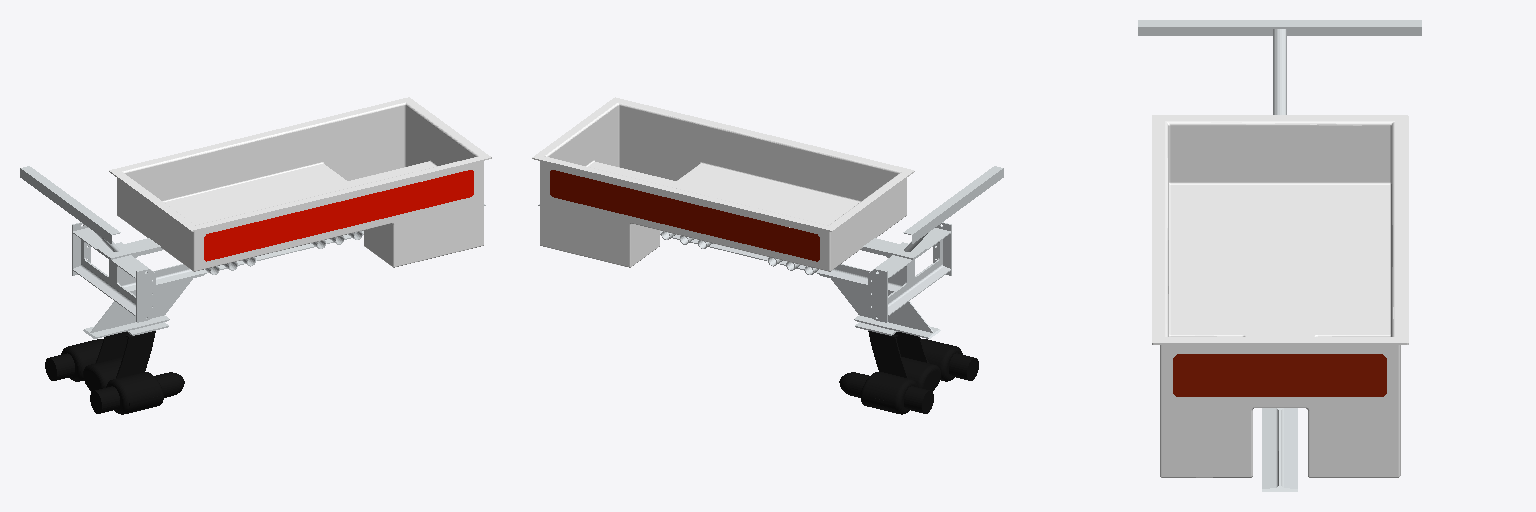
robot.urdf — trevor:
<?xml version="1.0"?>
<robot name="trevor">

  <link name="base_link">
    <visual>
      <geometry>
        <mesh filename="package://urdf_tutorial/meshes/usv_box.dae"/>
      </geometry>
      <origin rpy="0 0 3.14159" xyz="0 0 0"/>
    </visual>
  </link>

  <link name="frame">
      <visual>
          <geometry>
            <mesh filename="package://urdf_tutorial/meshes/frame.dae"/>
          </geometry>
          <origin rpy="0 0 1.57075" xyz="0.578 -0.02 -0.01"/>
      </visual>
  </link>

  <joint name="box_to_frame" type="fixed">
    <parent link="base_link"/>
    <child link="frame"/>
    <origin xyz="0 0 0"/>
  </joint>

  <link name="thrusters">
      <visual>
          <geometry>
            <mesh filename="package://urdf_tutorial/meshes/thruster.dae"/>
          </geometry>
          <origin rpy="0 0 1.57075" xyz="0.02 0.063 -0.586"/>
      </visual>
  </link>

  <joint name="frame_to_thrusters" type="fixed">
    <parent link="frame"/>
    <child link="thrusters"/>
    <origin xyz="0 0 0"/>
  </joint>
</robot>

--- Facts derived from the render (not from the file) ---
3 views of the same robot in one strip: view 1: azimuth 30°, elevation 25°; view 2: azimuth 150°, elevation 25°; view 3: azimuth 270°, elevation 25° (orthographic).
Model trevor with 3 links and 2 joints (2 fixed), rooted at base_link, posed all joints at 0.
Visible links, largest first — view 1: base_link, frame, thrusters; view 2: base_link, frame, thrusters; view 3: base_link, frame.
Boxes of the visible links, x1,y1,x2,y2 form: base_link: (109, 97, 491, 271); frame: (20, 166, 485, 338); thrusters: (45, 331, 184, 414); base_link: (532, 97, 914, 271); frame: (538, 166, 1003, 338); thrusters: (839, 331, 978, 414); base_link: (1152, 115, 1408, 477); frame: (1138, 20, 1421, 491).
Size in the robot's own frame: 1.73 by 0.6572 by 0.8056 metres.
3 mesh visuals loaded from 3 distinct referenced files (3 Collada DAE).
